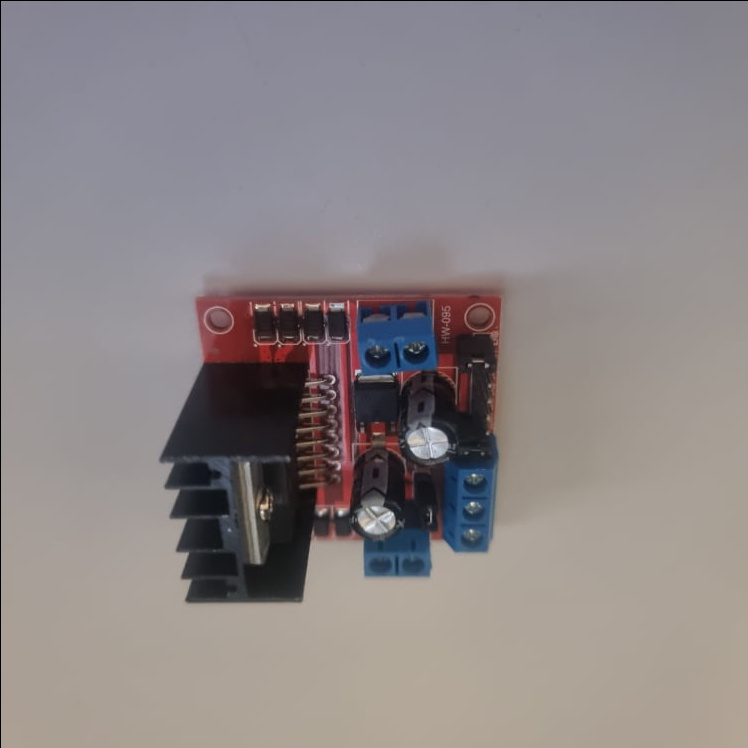MOTOR: (158, 291, 502, 606)
